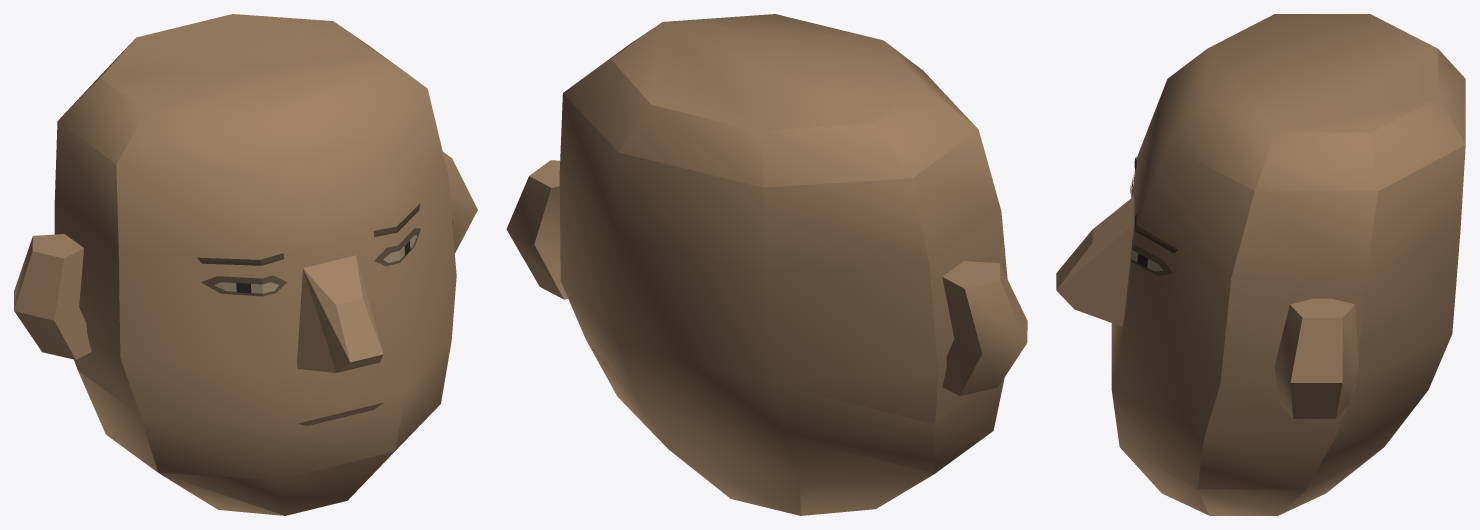
File: human_head33.glb
The picture shows the model from 3 angles, left to right: view 1: azimuth 30°, elevation 25°; view 2: azimuth 150°, elevation 25°; view 3: azimuth 270°, elevation 25°; orthographic projection. The views are drawn at different scales.
Visible parts, largest first — view 1: original_human_01_neutral_head; view 2: original_human_01_neutral_head; view 3: original_human_01_neutral_head.
Boxes of the visible parts, <box> form: original_human_01_neutral_head: <box>14,14,477,515</box>; original_human_01_neutral_head: <box>506,14,1027,515</box>; original_human_01_neutral_head: <box>1056,14,1465,515</box>.
Size of the model in its own units: 0.2704 by 0.221 by 0.2029.
